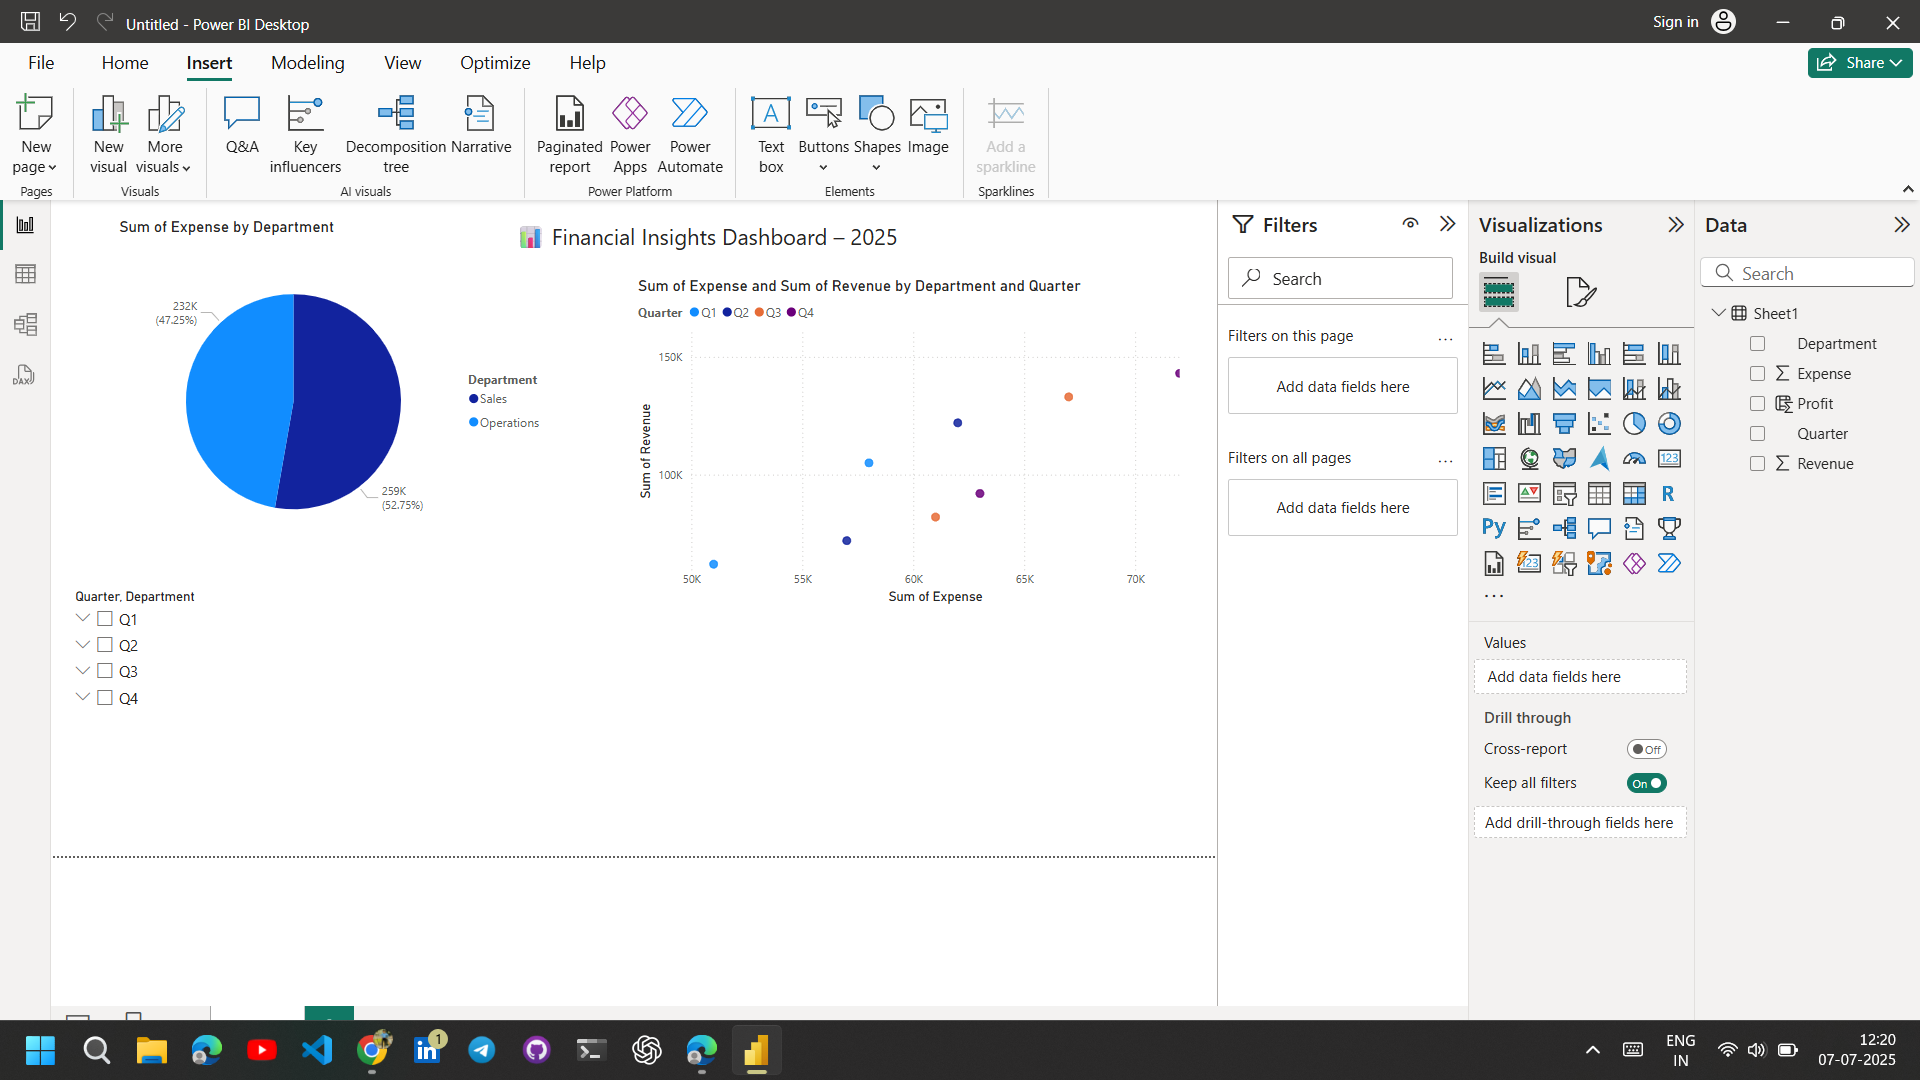

The page's visual inventory and layout, read from the dashboard file:
{"tool":"powerbi","page":{"name":"Page 1","canvas":[1280,720],"ordinal":0},"visuals":[{"type":"pieChart","fields":{"Category":["Sheet1.Department"],"Y":["Sum(Sheet1.Expense)"]},"box":[70,19.2,485.8,385.6],"z":0},{"type":"scatterChart","fields":{"Category":["Sheet1.Department"],"Series":["Sheet1.Quarter"],"X":["Sum(Sheet1.Expense)"],"Y":["Sum(Sheet1.Revenue)"]},"box":[639.5,83.7,614.8,365],"z":1},{"type":"slicer","fields":{"Values":["Sheet1.Quarter","Sheet1.Department"]},"box":[13.7,421.3,598.3,288.2],"z":2},{"type":"textbox","box":[492.6,19.2,454.2,45.3],"z":3}]}

Visuals, with their boxes on the page's 1280x720 design canvas (x1, y1, x2, y2). These are canvas units, not pixel positions in the 1920x1080 screenshot, which may show the page scaled, cropped or inside an application window:
pieChart - Sheet1.Department x Sum(Sheet1.Expense): left=70, top=19, right=556, bottom=405
scatterChart - Sheet1.Department x Sheet1.Quarter: left=640, top=84, right=1254, bottom=449
slicer - Sheet1.Quarter x Sheet1.Department: left=14, top=421, right=612, bottom=710
textbox: left=493, top=19, right=947, bottom=64
